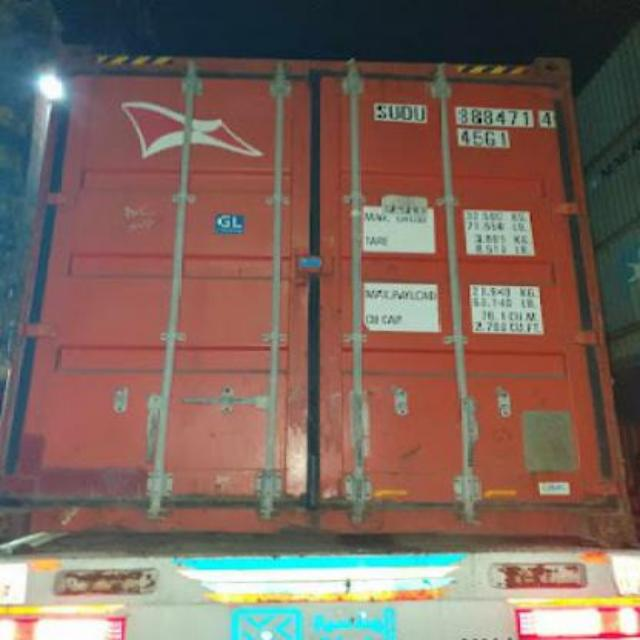1: (520, 109, 536, 127)
4: (494, 105, 508, 132), (540, 108, 556, 128)
7: (506, 105, 518, 125)
8: (468, 104, 482, 128), (484, 102, 496, 126), (458, 106, 468, 126)
D: (404, 102, 414, 120)
S: (374, 100, 386, 122)
U: (412, 102, 430, 125), (386, 98, 402, 122)
